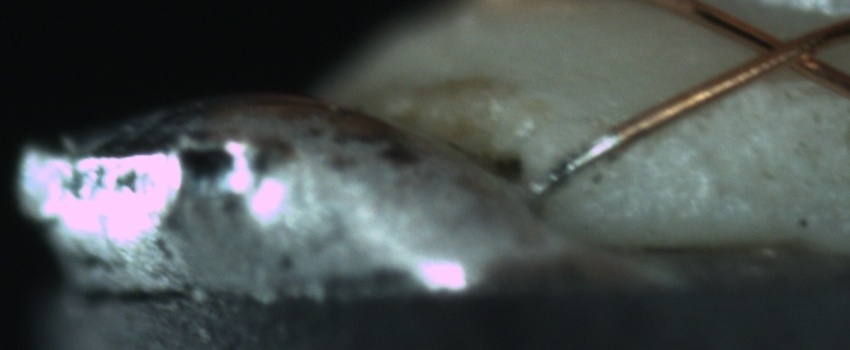CL: (730, 16, 835, 82)
TS: (532, 133, 623, 199)
TTCW: (524, 108, 657, 204)
